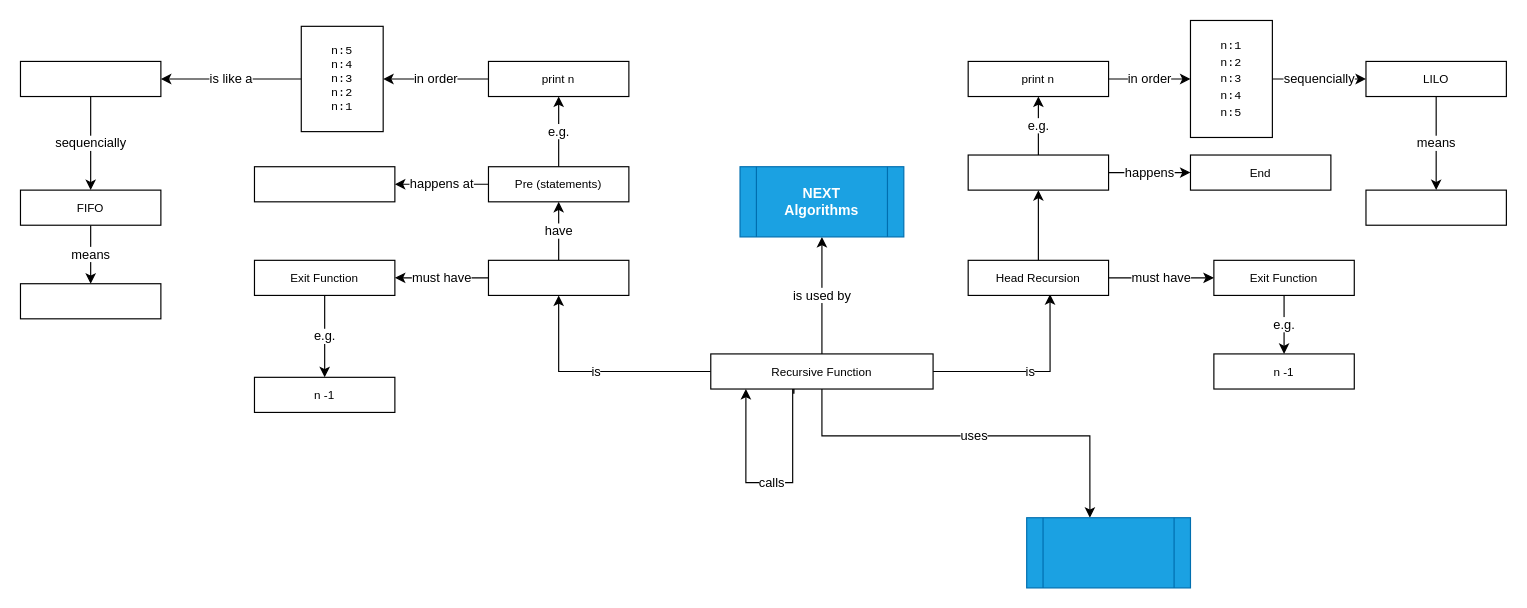
This 1527x608 diagram has some shape labels left out. Here are the shapes that lost their labels. From the top down, the centre of each, then its label:
the point at 90,78: Queue
the point at 324,184: Beginning
the point at 1038,172: Post (statements)
the point at 1435,207: Last in Last out
the point at 558,277: Tail Recursion
the point at 90,301: First in First Out
the point at 1108,552: NEXT Exception Handling
